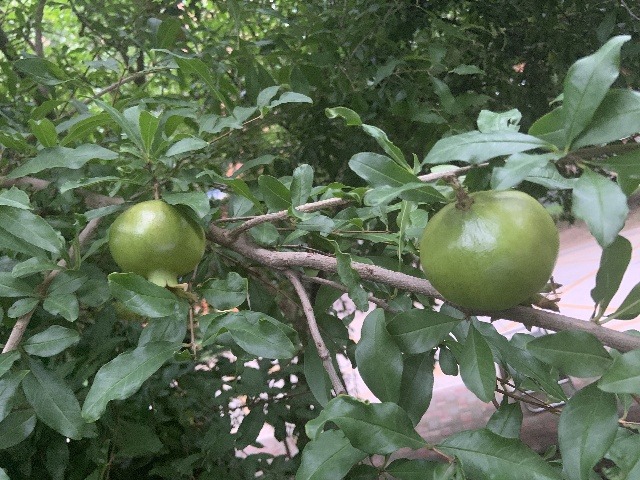mid-growth: (419, 188, 559, 318), (108, 200, 205, 293)
